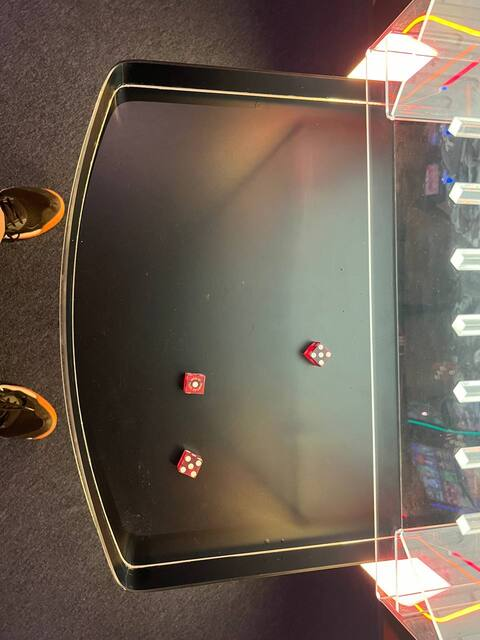five: (172, 451, 207, 479), (305, 340, 335, 366)
one: (181, 371, 209, 399)
